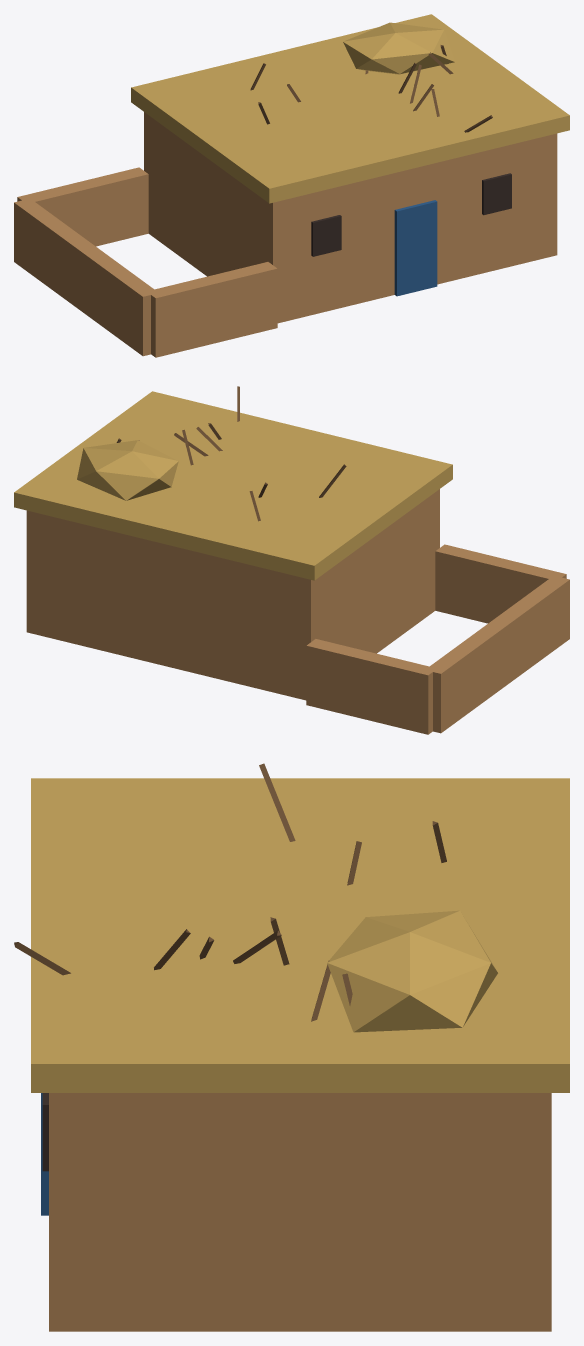
File: lerhus.glb
3 views of the same model, one above another, from view 1: azimuth 30°, elevation 25°; view 2: azimuth 150°, elevation 25°; view 3: azimuth 270°, elevation 25° (orthographic). The views are drawn at different scales.
Visible parts, largest first — view 1: lerhus; view 2: lerhus; view 3: lerhus.
Boxes of the visible parts, x1,y1,x2,y2 form: lerhus: (14, 14, 569, 357); lerhus: (14, 386, 569, 734); lerhus: (14, 763, 569, 1331).
Bounding box in the file's own units: 10.4 × 4.06 × 6.08.
